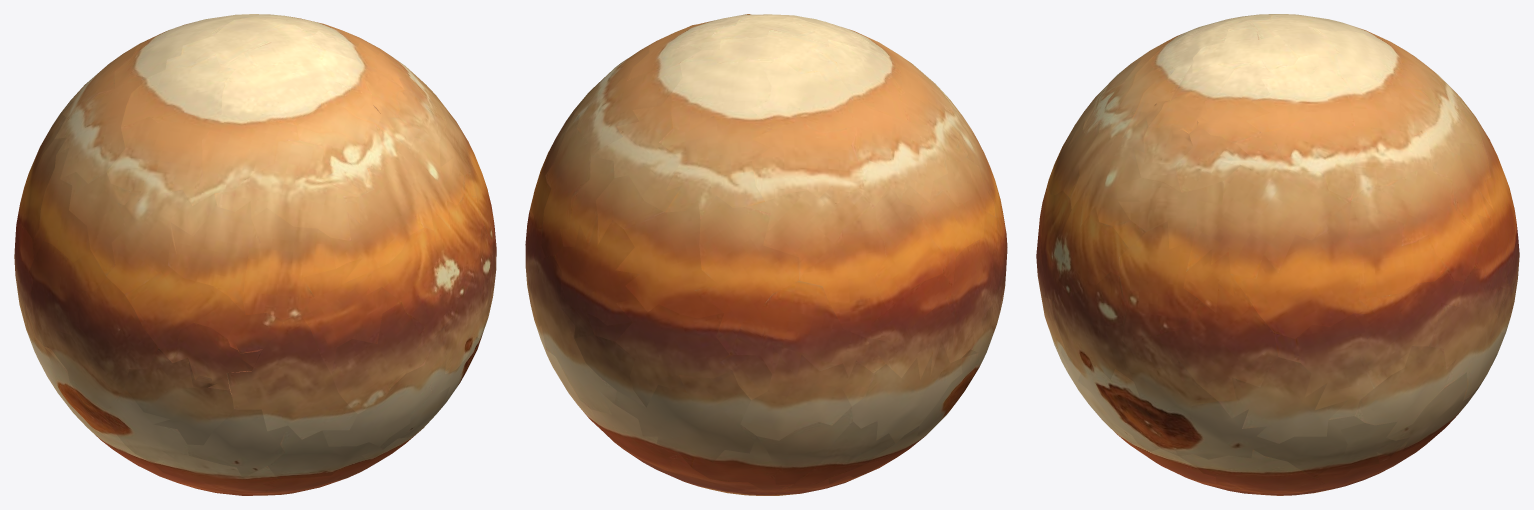
Rendered from planet-desert.glb.
3 renders of one model, left to right at view 1: azimuth 30°, elevation 25°; view 2: azimuth 150°, elevation 25°; view 3: azimuth 270°, elevation 25°, orthographic.
Bounding box in the file's own units: 1.9 × 1.9 × 1.9.
Materials: 1 (1 with a texture image).
